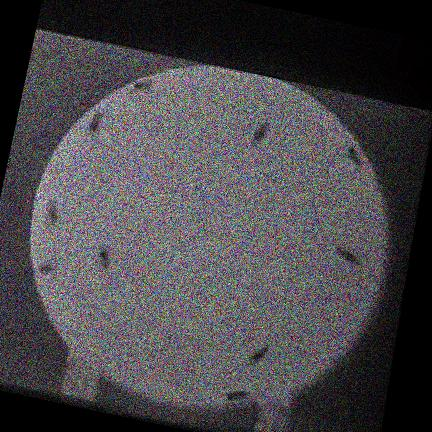fly: (337, 245, 362, 266), (248, 344, 270, 365), (251, 122, 269, 144), (88, 111, 102, 134), (347, 146, 362, 166), (222, 389, 249, 400), (47, 200, 59, 223), (99, 246, 110, 270), (133, 78, 152, 90), (39, 261, 53, 273)
